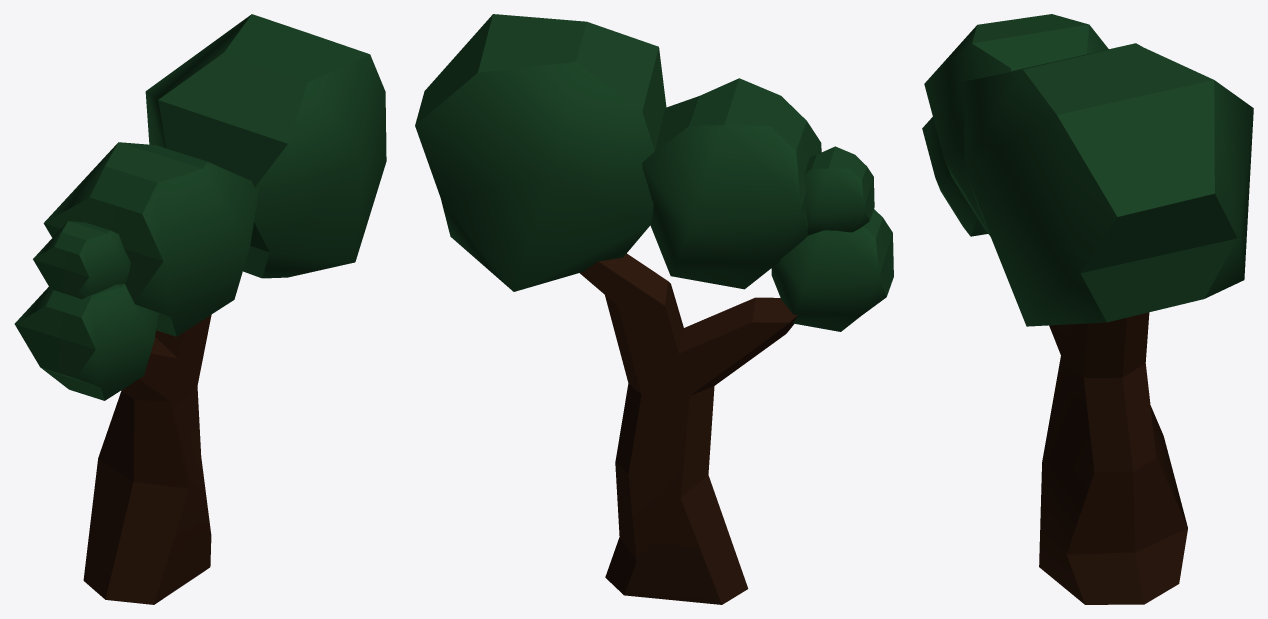
The model's file is Tree.FBX.
The picture shows the model from 3 angles, left to right: view 1: azimuth 30°, elevation 25°; view 2: azimuth 150°, elevation 25°; view 3: azimuth 270°, elevation 25°; orthographic projection. The views are drawn at different scales.
Visible parts, largest first — view 1: Tree Leaves 003, Tree Trunk 003; view 2: Tree Leaves 003, Tree Trunk 003; view 3: Tree Leaves 003, Tree Trunk 003.
Part boxes in pixels (bbox=[...]): Tree Leaves 003: bbox=[14, 14, 386, 400]; Tree Trunk 003: bbox=[83, 314, 211, 604]; Tree Leaves 003: bbox=[415, 14, 893, 331]; Tree Trunk 003: bbox=[580, 253, 797, 604]; Tree Leaves 003: bbox=[922, 14, 1253, 326]; Tree Trunk 003: bbox=[1039, 312, 1187, 604].
Size of the model in its own units: 28.61 by 33.36 by 17.07.
